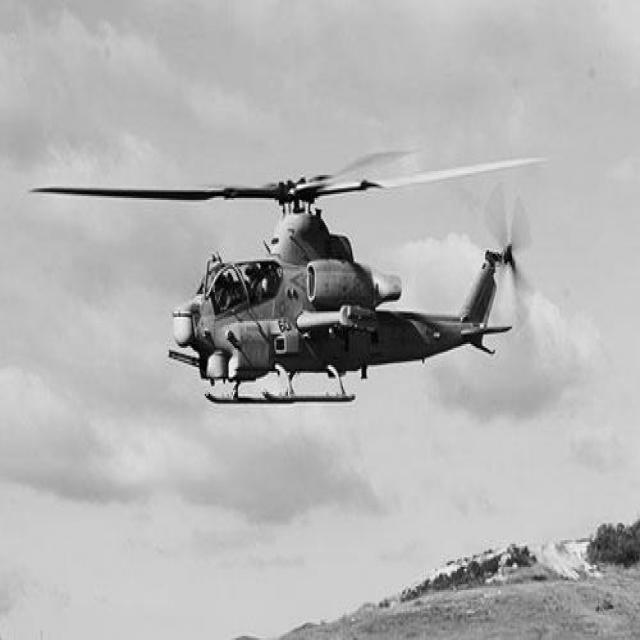MIL_HELO: (25, 134, 554, 430)
